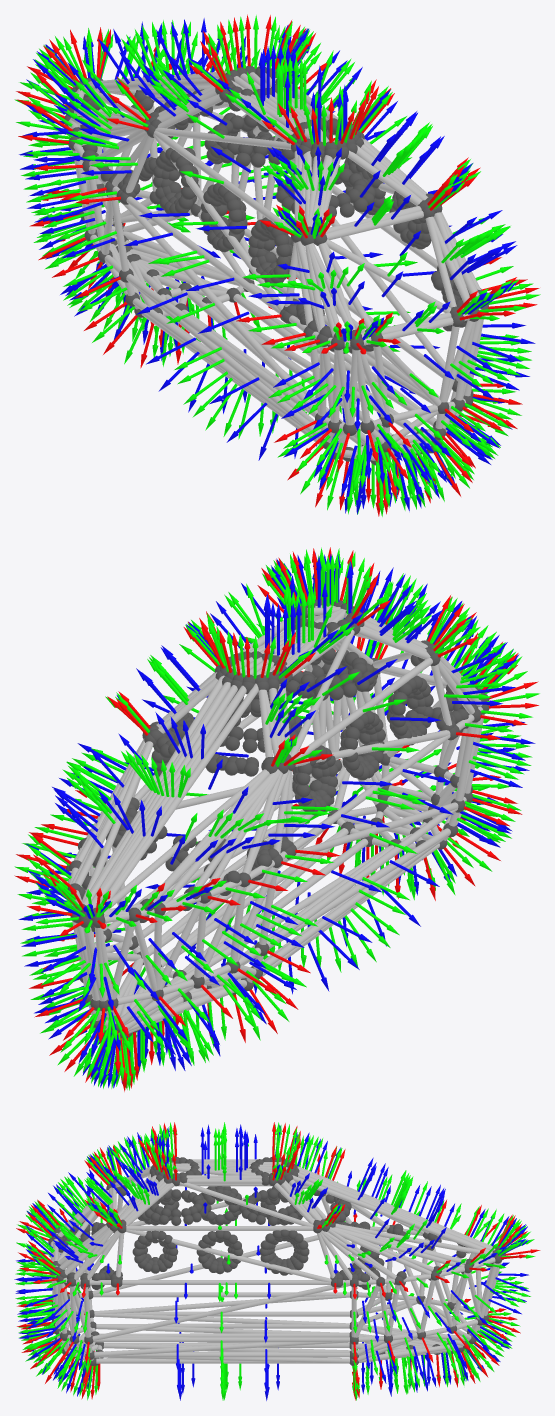
The model's file is onshape_boat.gltf.
3 renders of one model, top to bottom at view 1: azimuth 30°, elevation 25°; view 2: azimuth 150°, elevation 25°; view 3: azimuth 270°, elevation 25°, orthographic. The views are drawn at different scales.
Size of the model in its own units: 0.413 by 0.553 by 1.04.
